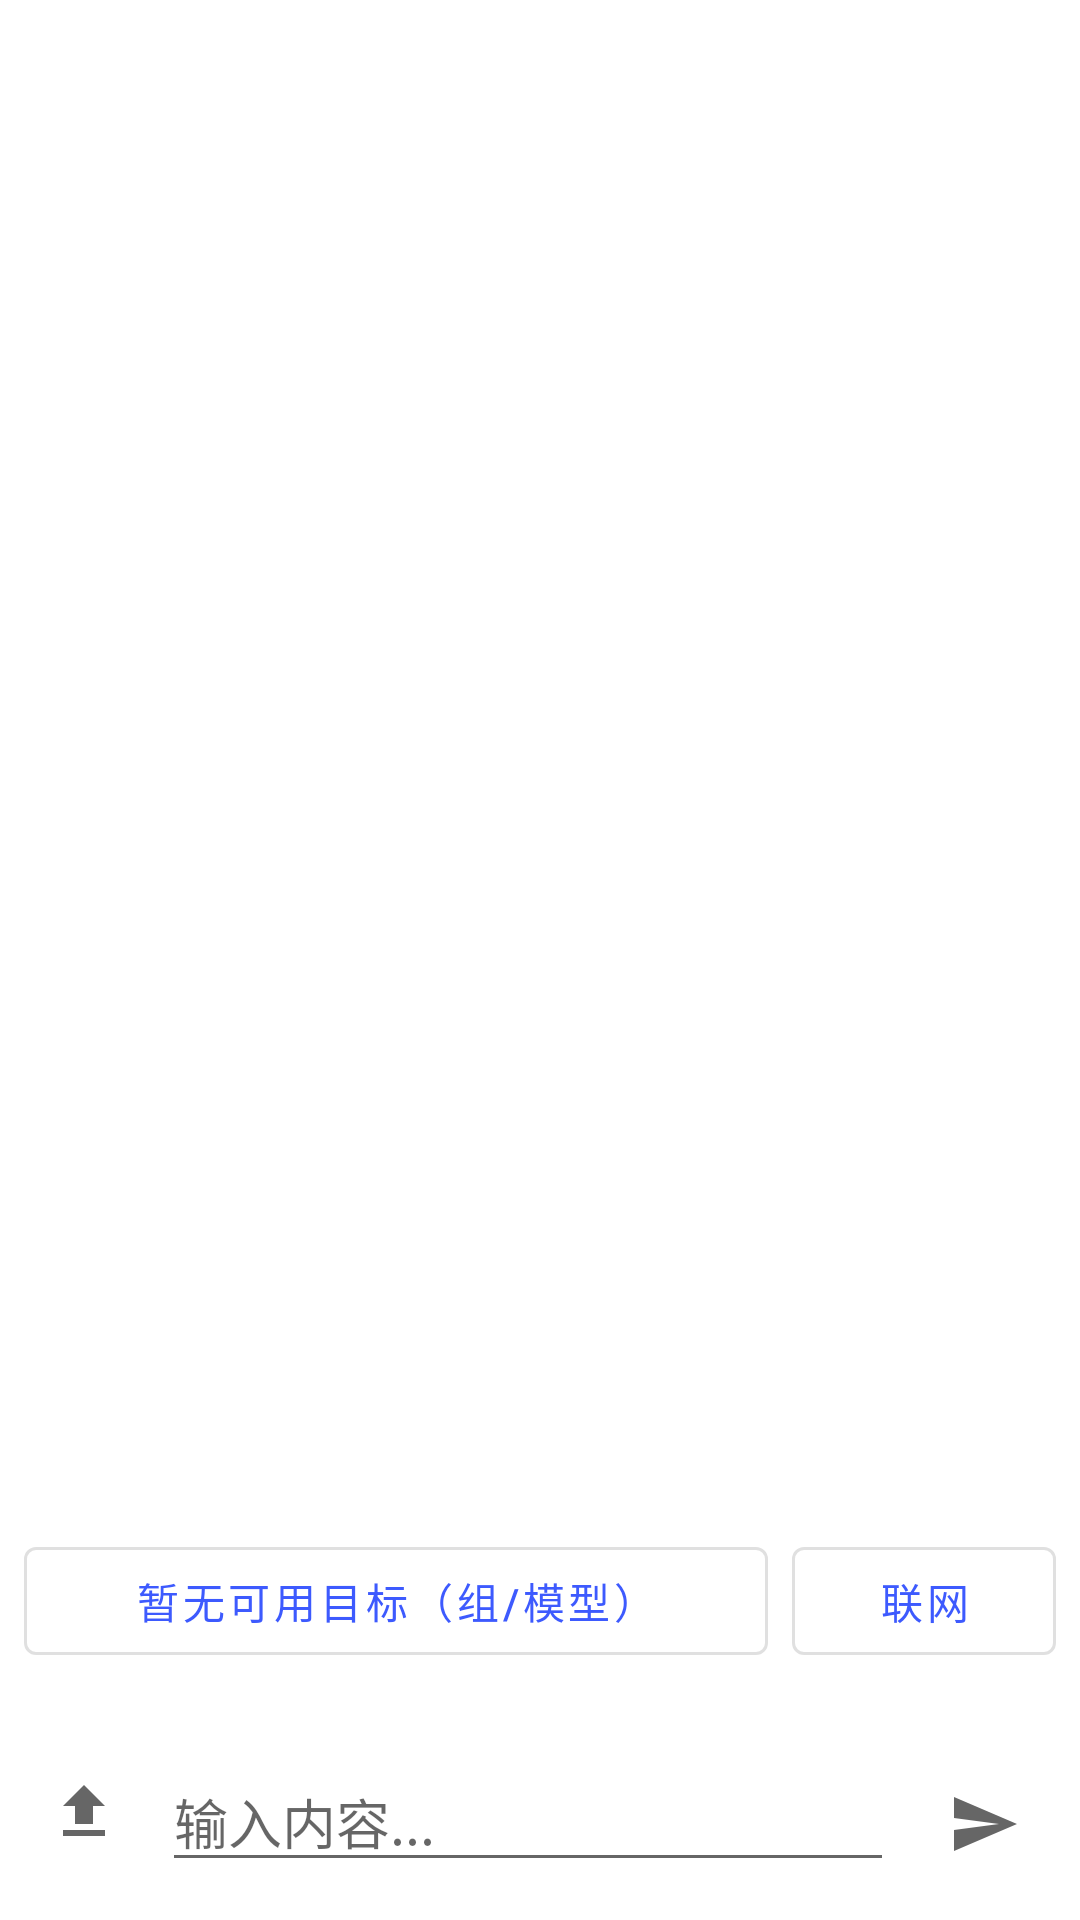

Icon bounding boxes for this 1080px x 1920px phone screenshot, format box(x1, y1, x2, y2):
上传文件: box(63, 1785, 105, 1836)
发送: box(954, 1797, 1017, 1851)
